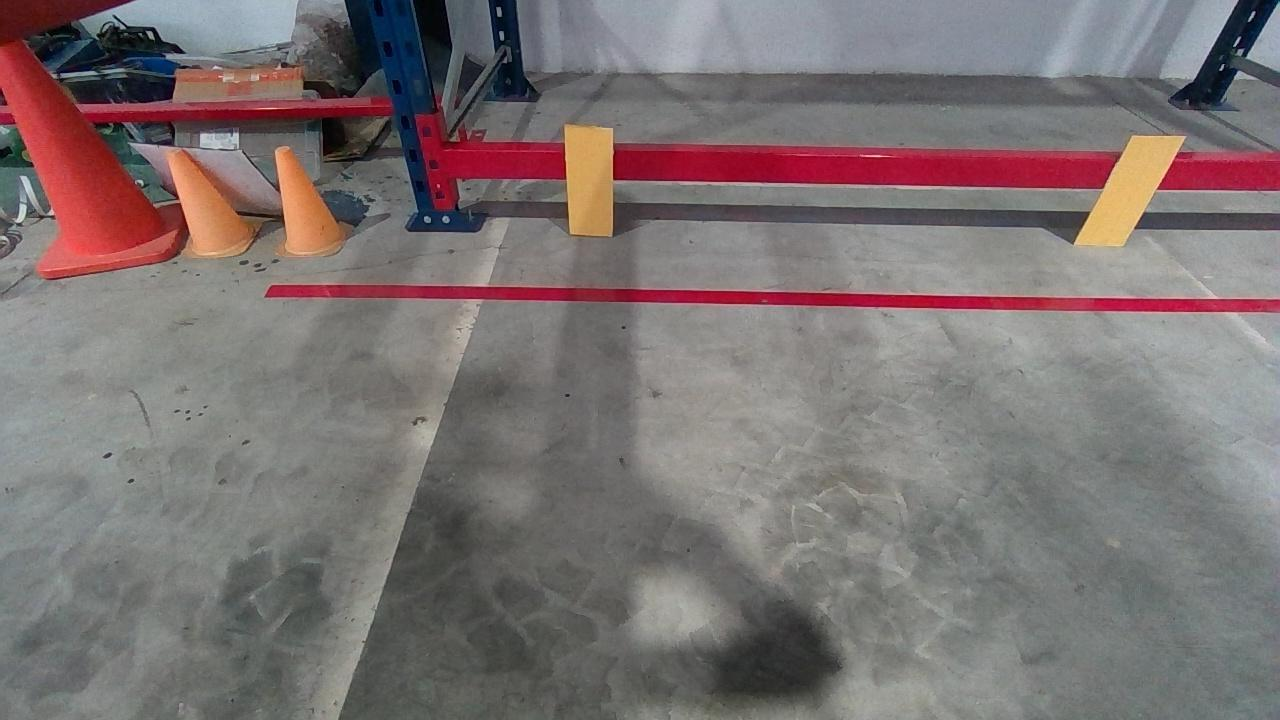h_rack: (448, 149, 1279, 190)
orange_strip: (1072, 133, 1188, 246), (565, 124, 614, 235)
red_line: (266, 282, 1279, 311)
